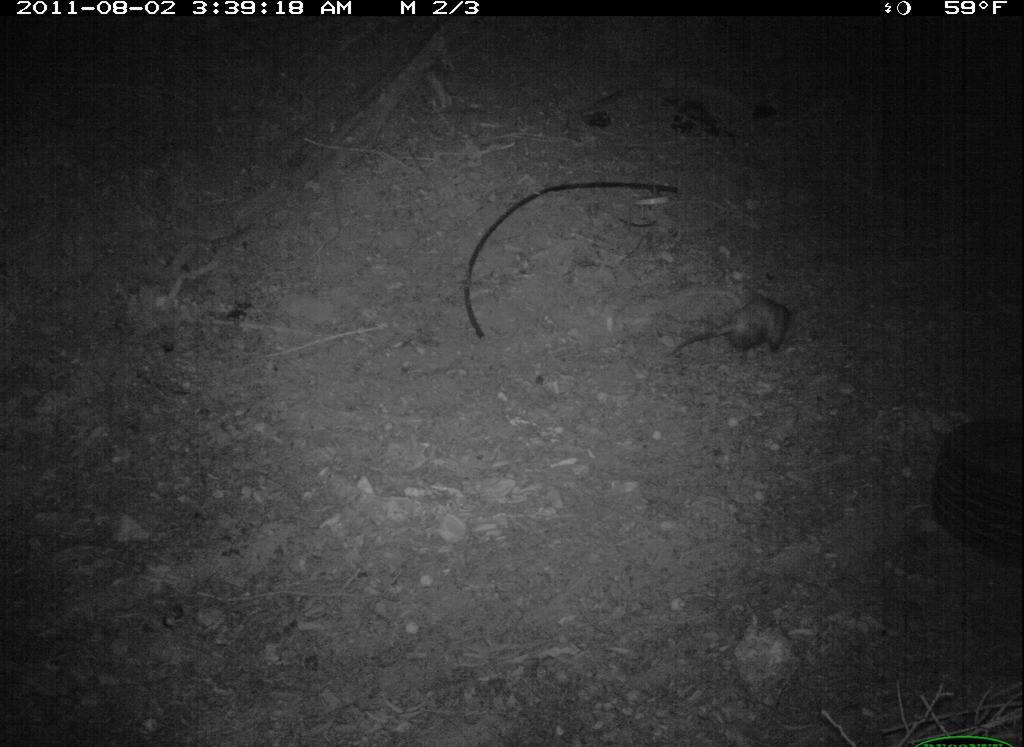opossum: (660, 291, 803, 373)
